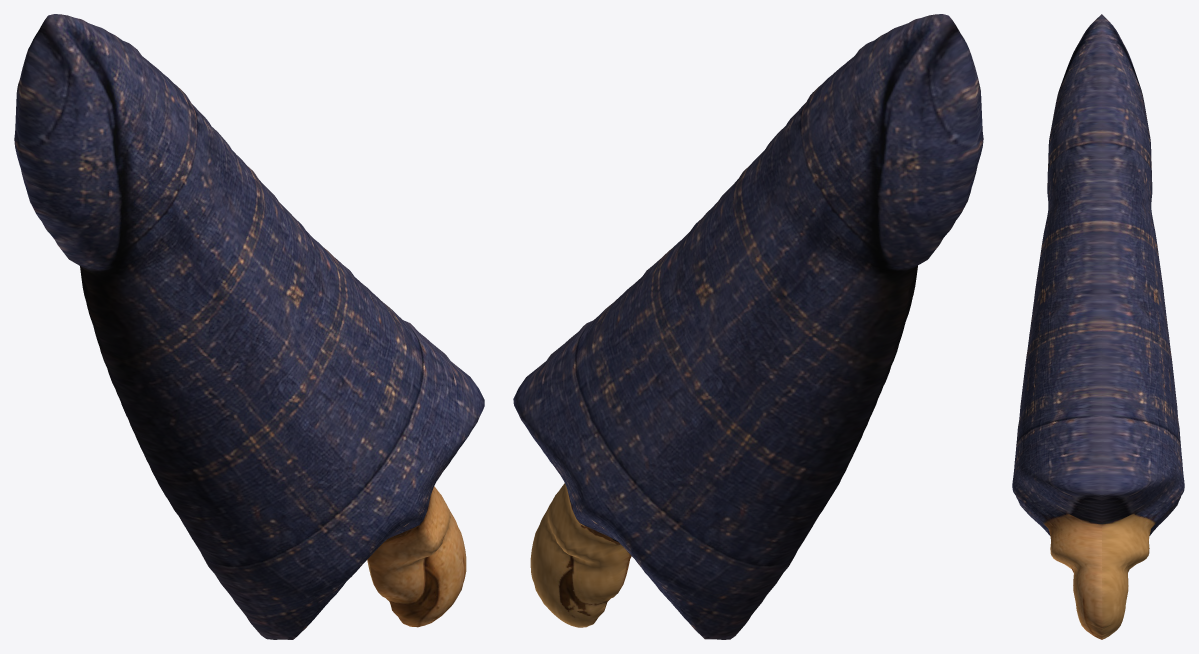
3 views of the same model, side by side, from view 1: azimuth 30°, elevation 25°; view 2: azimuth 150°, elevation 25°; view 3: azimuth 270°, elevation 25° (orthographic). The views are drawn at different scales.
Parts seen in each view (by area): view 1: LeftArm; view 2: LeftArm; view 3: LeftArm.
Boxes of the visible parts, box(x1,y1,x2,y2) form: LeftArm: box(14, 14, 484, 639); LeftArm: box(513, 14, 983, 639); LeftArm: box(1012, 14, 1184, 639).
Size of the model in its own units: 0.399 by 0.5879 by 0.1849.
Materials: 2 (2 with a texture image).
